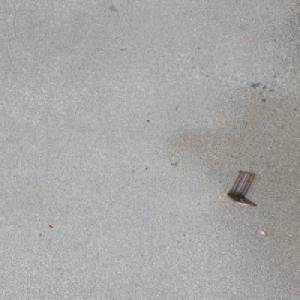MetalPart: (225, 170, 258, 206)
